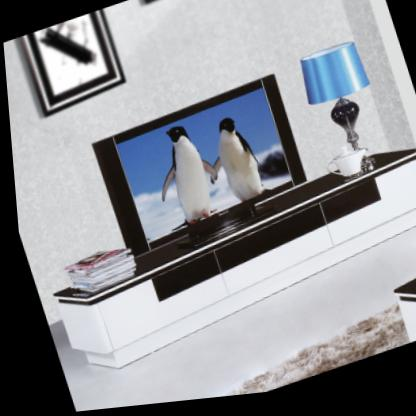Curtains: (217, 314, 404, 400)
Lamp: (292, 44, 393, 192)
TV stand: (31, 141, 416, 386)
